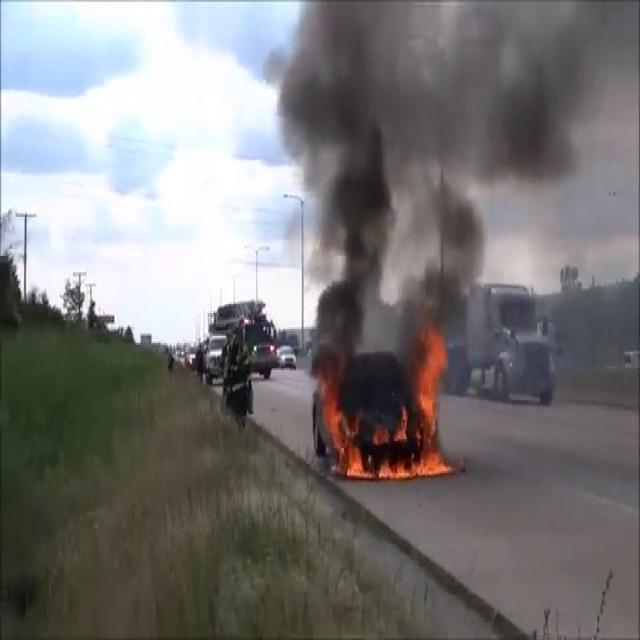Fire: (322, 329, 454, 482)
Smoke: (276, 1, 633, 348)
